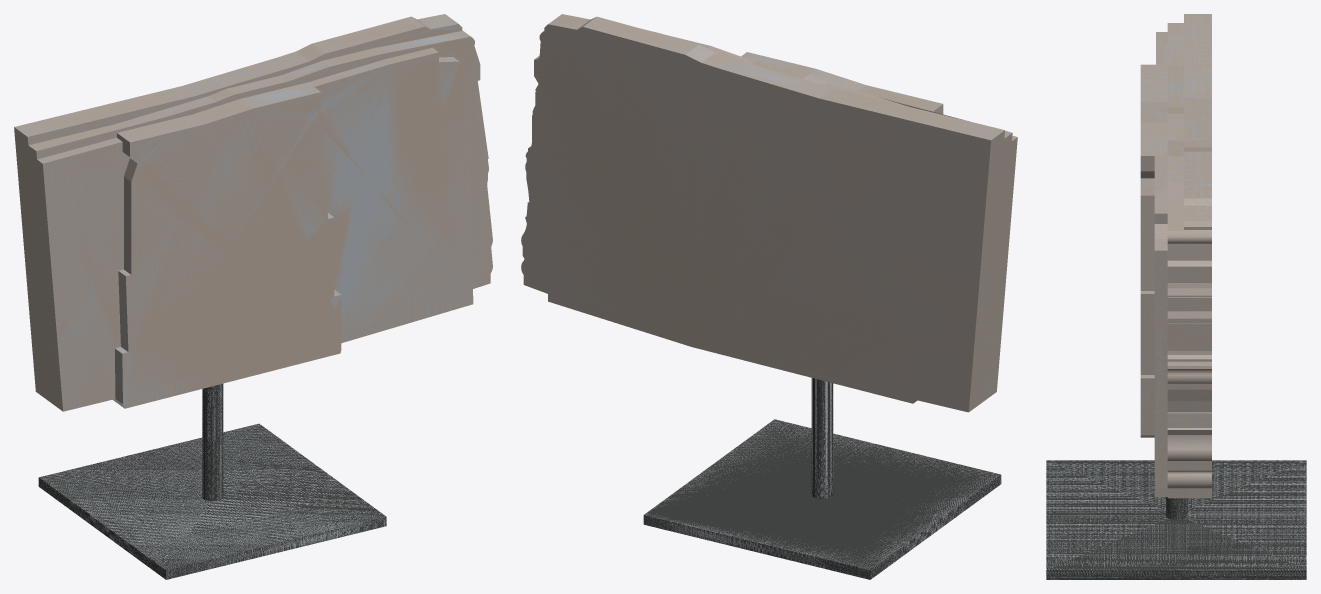
File: escultura.dae
The picture shows the model from 3 angles, left to right: view 1: azimuth 30°, elevation 25°; view 2: azimuth 150°, elevation 25°; view 3: azimuth 270°, elevation 25°; orthographic projection. The views are drawn at different scales.
Parts seen in each view (by area): view 1: group_2, group_0, group_1; view 2: group_2, group_0, group_1; view 3: group_2, group_0, group_1.
Part boxes in pixels (<box>): group_2: <box>14,14,492,411</box>; group_0: <box>38,423,386,579</box>; group_1: <box>202,383,223,501</box>; group_2: <box>521,14,1017,412</box>; group_0: <box>643,419,1001,579</box>; group_1: <box>811,378,833,499</box>; group_2: <box>1140,14,1211,498</box>; group_0: <box>1046,460,1306,579</box>; group_1: <box>1165,497,1187,519</box>.
Bounding box in the file's own units: 14.7 × 7.09 × 13.04.
